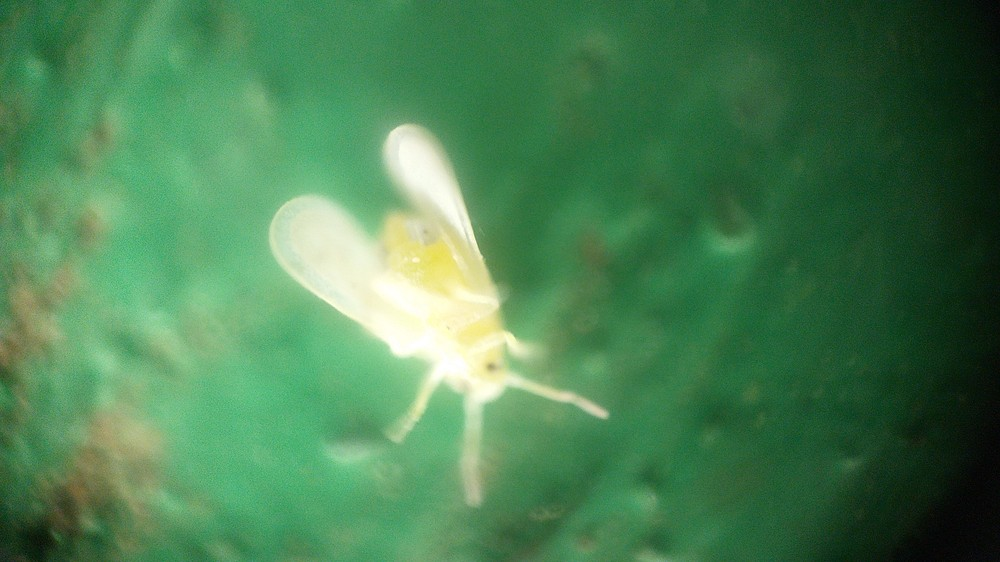Mosca Blanca: (264, 114, 630, 521)
